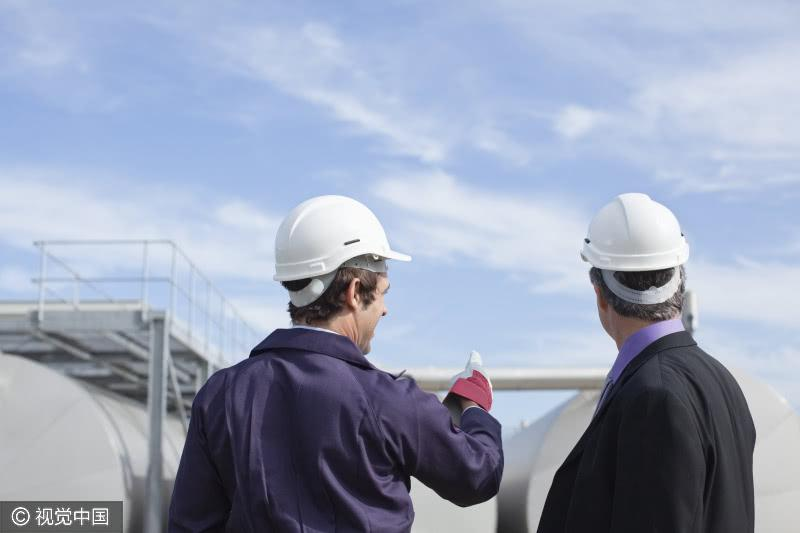helmet: (274, 194, 415, 308), (579, 193, 692, 306)
